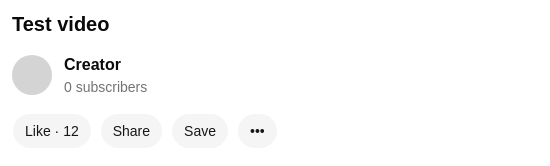
Test: VideoDetails likes › shows an error and allows retrying when the request fails
Click the button "Like · 12" at (52, 131), box [12,113,92,149]
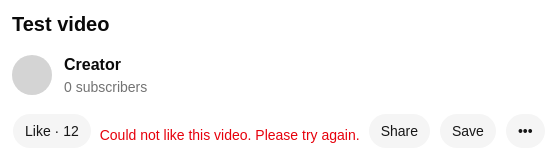
Expected: the message reads "Could not like this video. Please try again.", [100,127,360,143]
